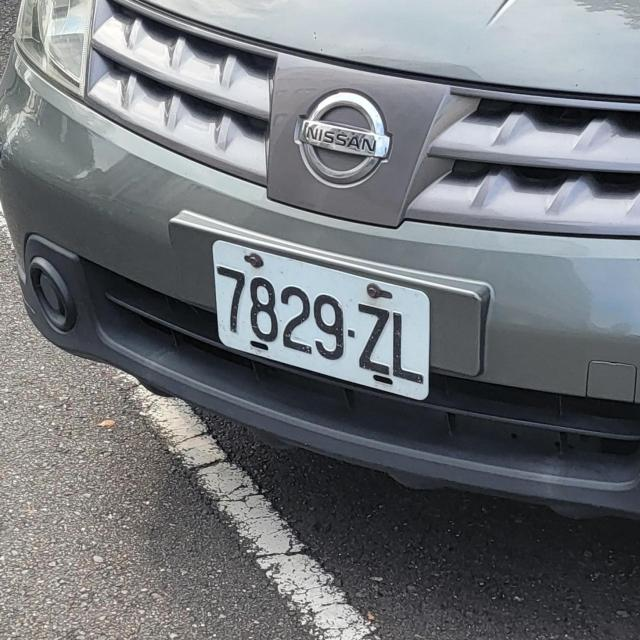W: (207, 239, 438, 402)
